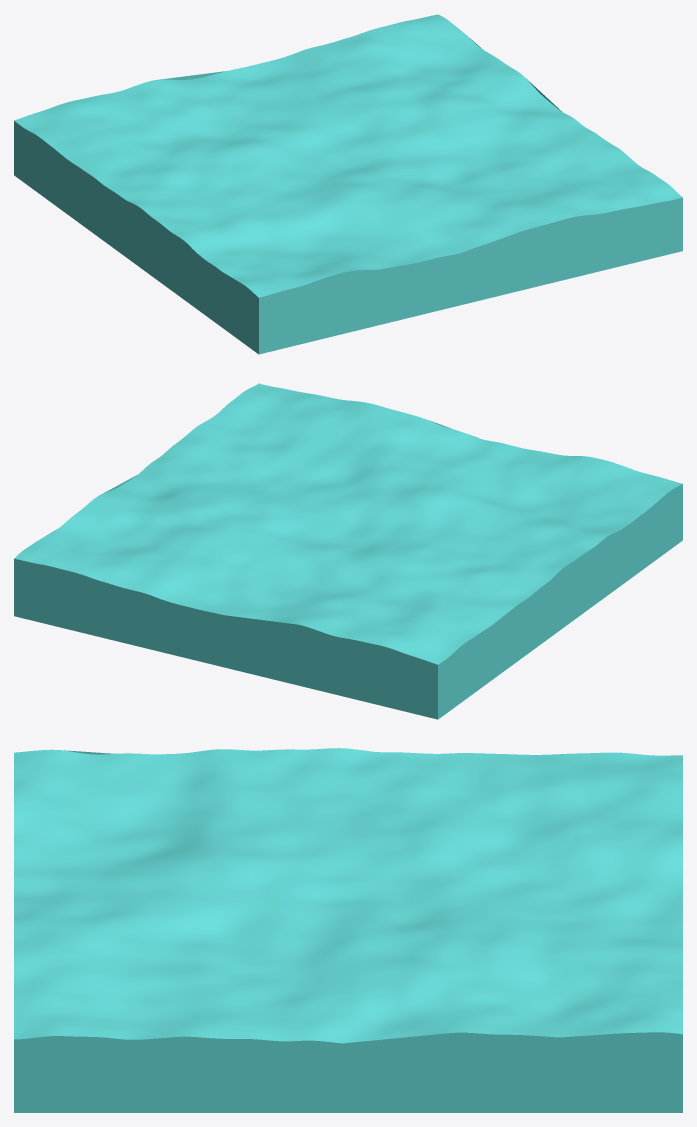
File: Water.fbx
3 renders of one model, top to bottom at view 1: azimuth 30°, elevation 25°; view 2: azimuth 150°, elevation 25°; view 3: azimuth 270°, elevation 25°, orthographic. The views are drawn at different scales.
Parts seen in each view (by area): view 1: Plane; view 2: Plane; view 3: Plane.
Boxes of the visible parts, x1=… form: Plane: x1=14, y1=14, x2=682, y2=354; Plane: x1=14, y1=383, x2=682, y2=719; Plane: x1=14, y1=748, x2=682, y2=1112.
Size of the model in its own units: 800 by 111 by 800.
